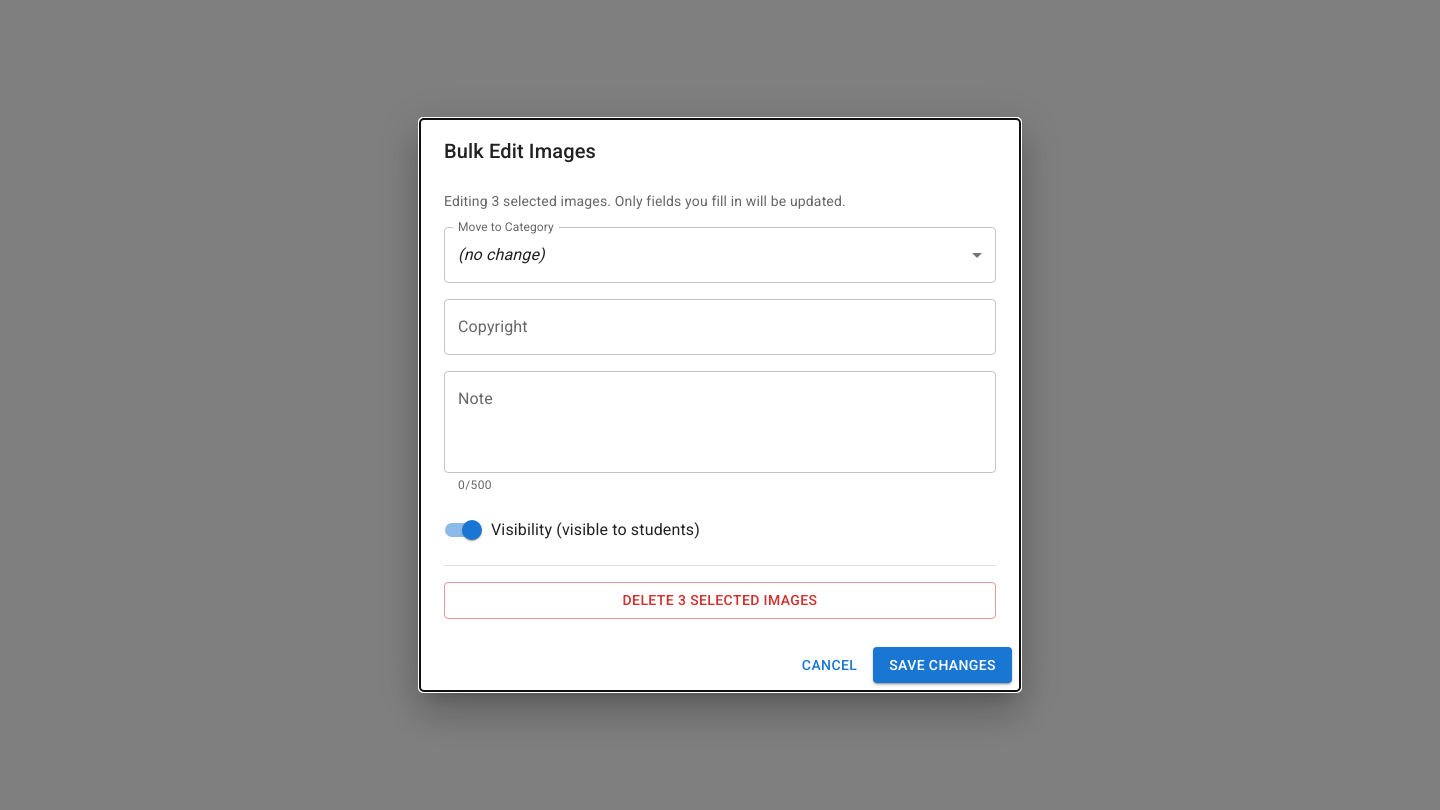
Test case: BulkEditImagesModal – delete error toast › shows an error toast when bulk delete fails
This screenshot has width=1440, height=810.
Click the button "Delete 3 Selected Images". click: [720, 601]
box: left=444, top=582, right=996, bottom=619
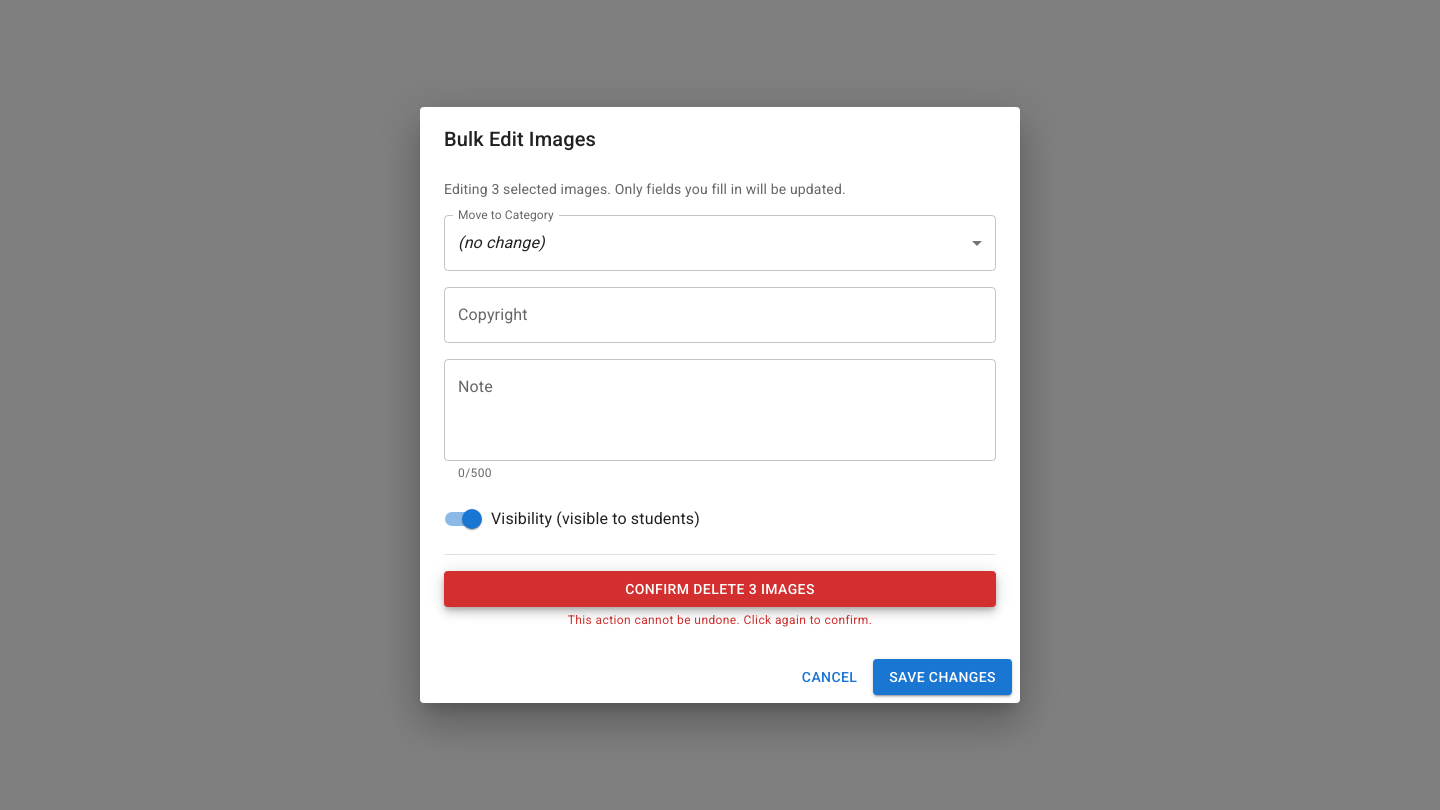
Click the button "Confirm Delete 3 Images". click: [720, 589]
box: left=444, top=570, right=996, bottom=607
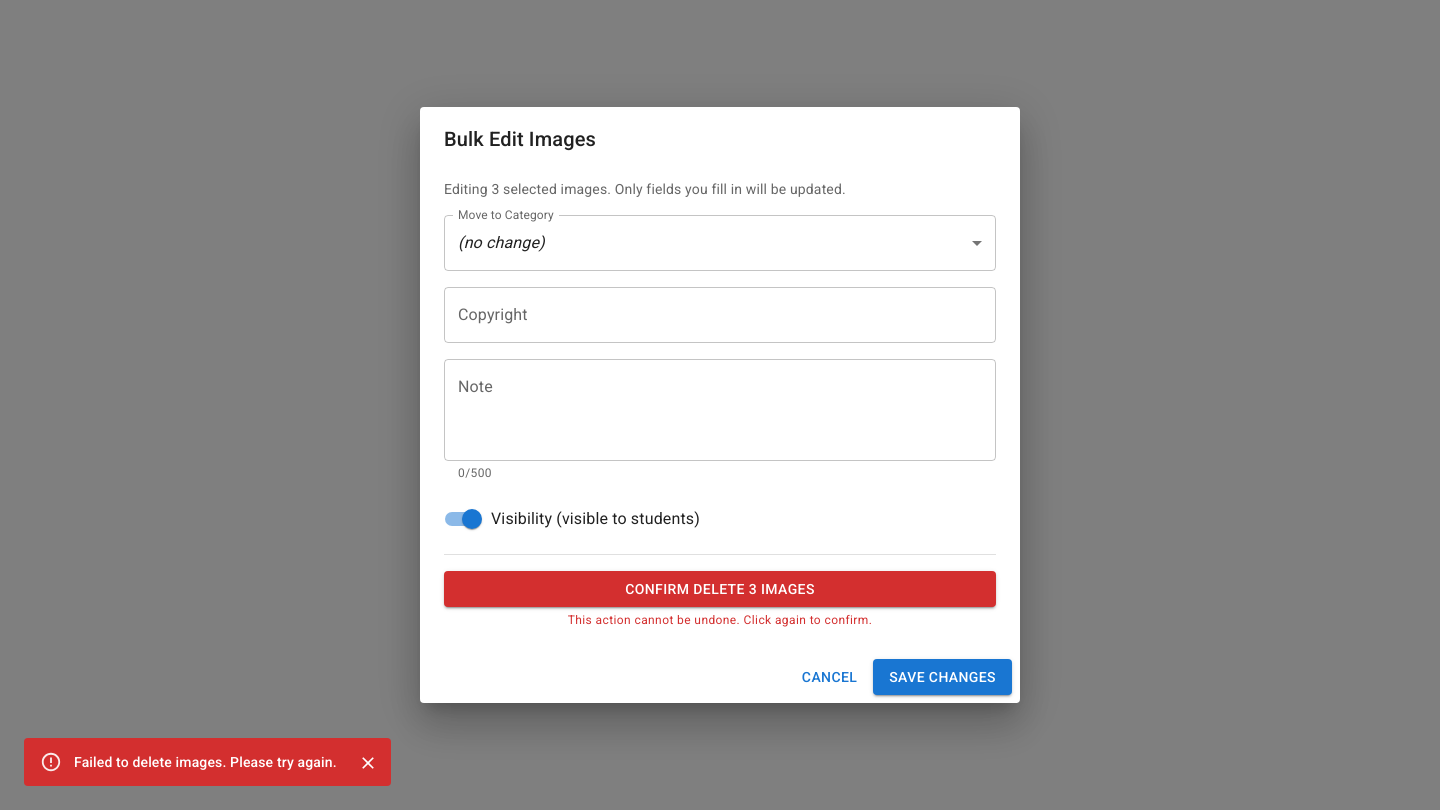
Expected: the text "Failed to delete images. Please try again." is shown, left=74, top=754, right=337, bottom=770
